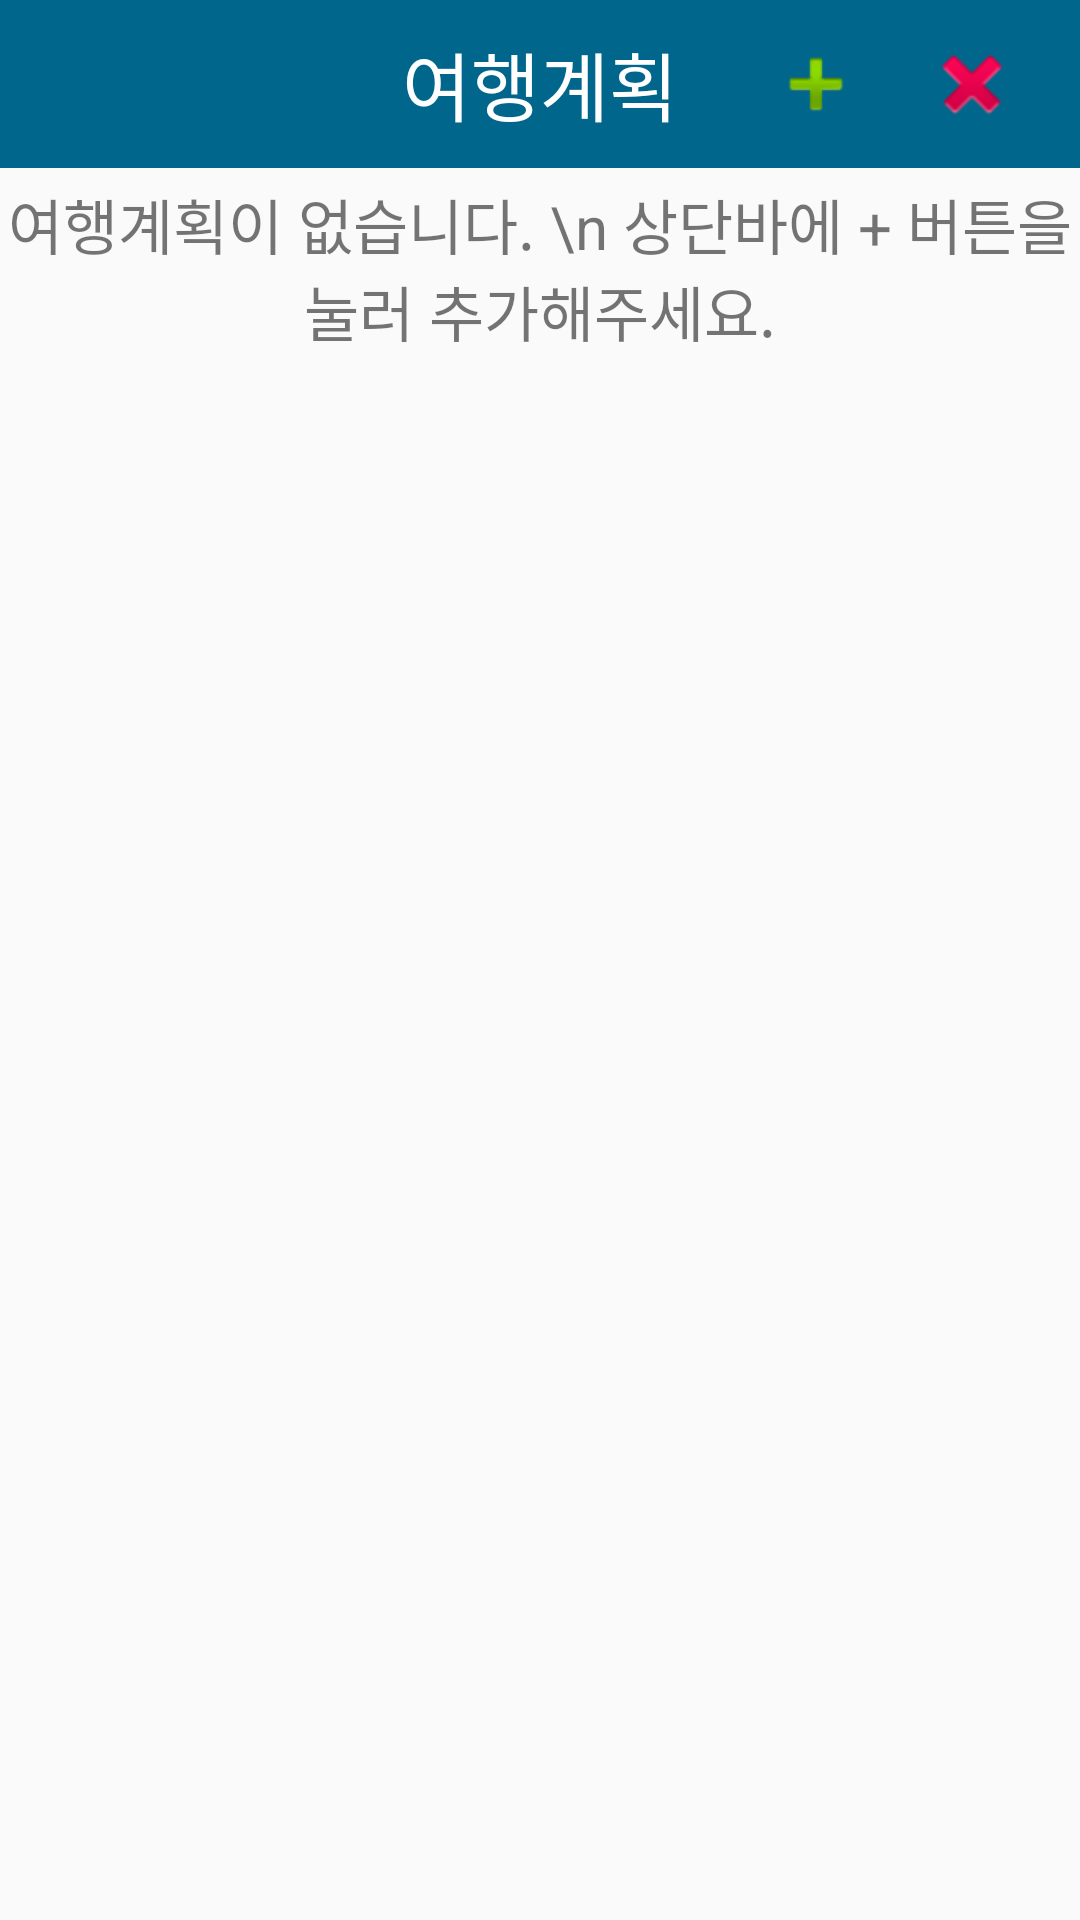

Icon click points for this 1080 × 1920 phone screenshot, format [x,y]:
add: [816,84]
delete: [972,84]
